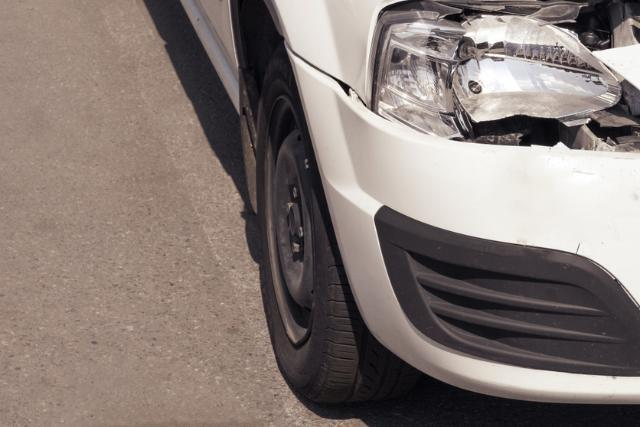Light: (374, 11, 640, 150)
